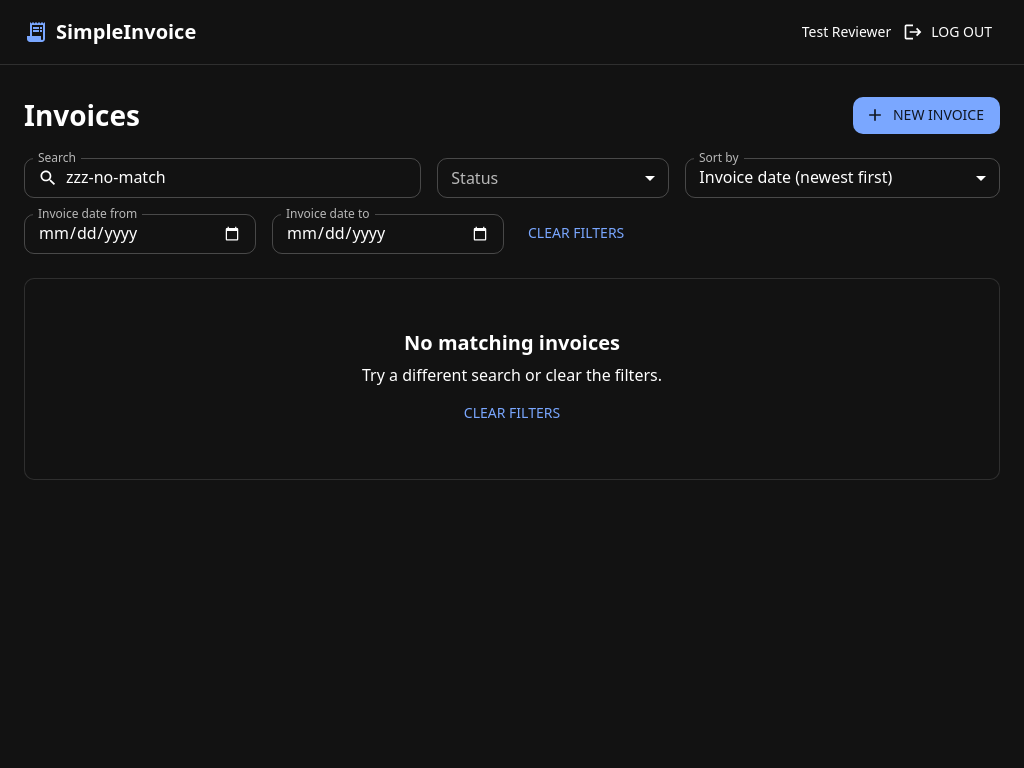
Test: InvoiceListPage › shows an empty state with a way to clear filters
The width and height of the screenshot is (1024, 768).
Expected: the heading "No matching invoices" is shown, [404,328,620,356]
Click the button "Clear filters" next to "Invoice date to" at (576, 234), box [520,215,632,252]
(page scrolled)
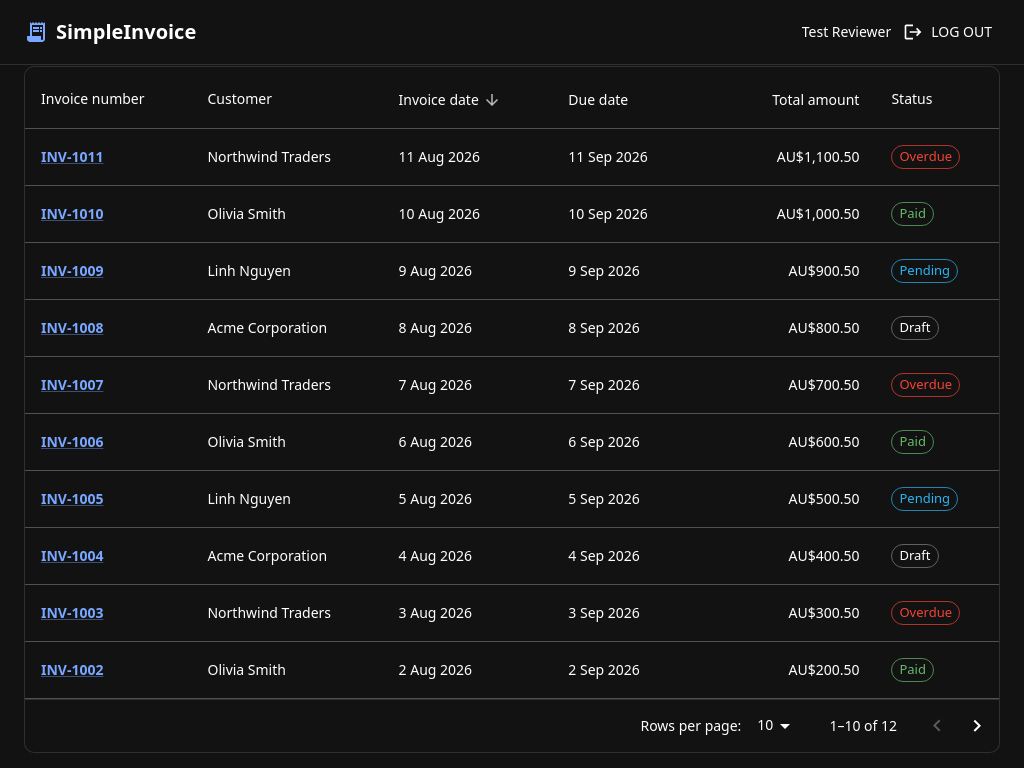
Expected: the table named "Invoices" is shown
